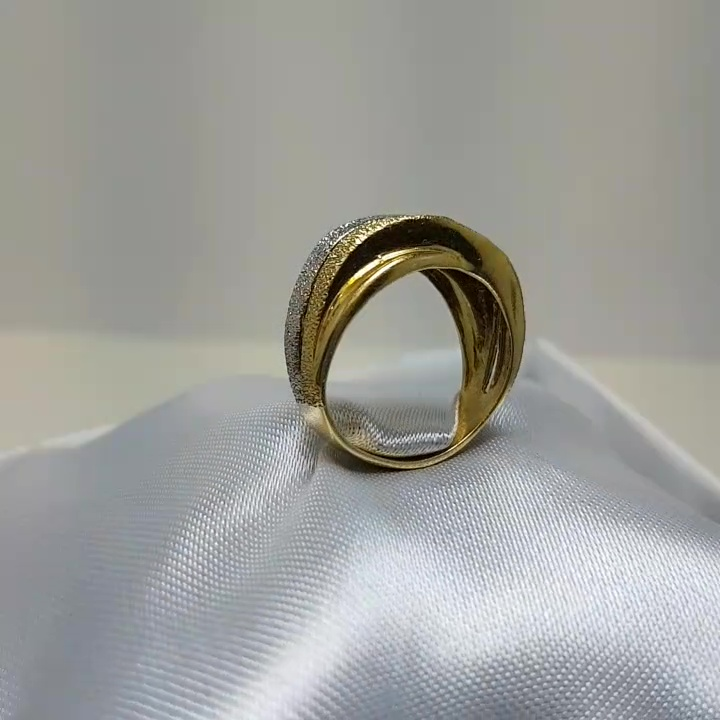Ring 5: (260, 202, 544, 477)
